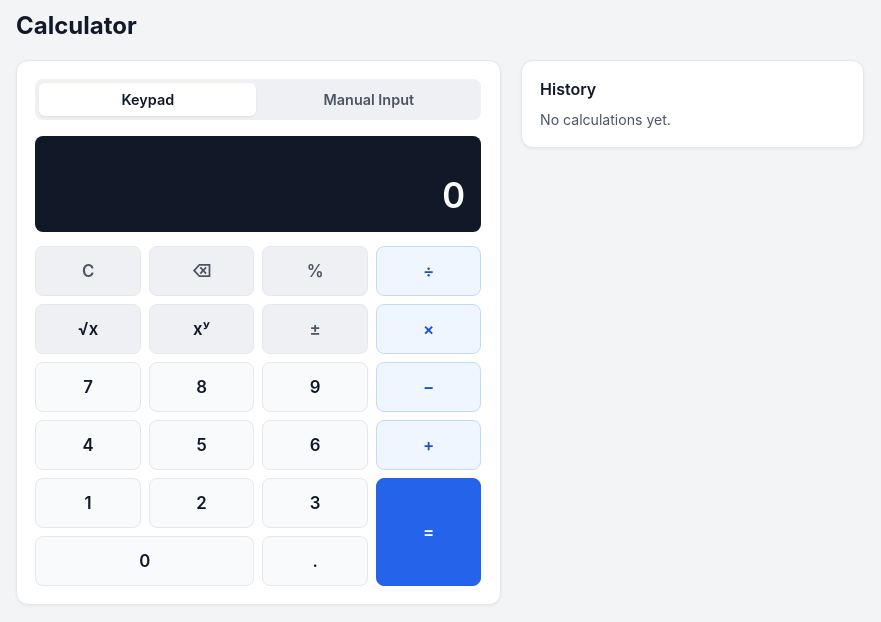
App › supports keyboard shortcuts, backspace, sign toggle, and operator chaining
Later steps or results of the test are not shown.
Type keys "12.59"
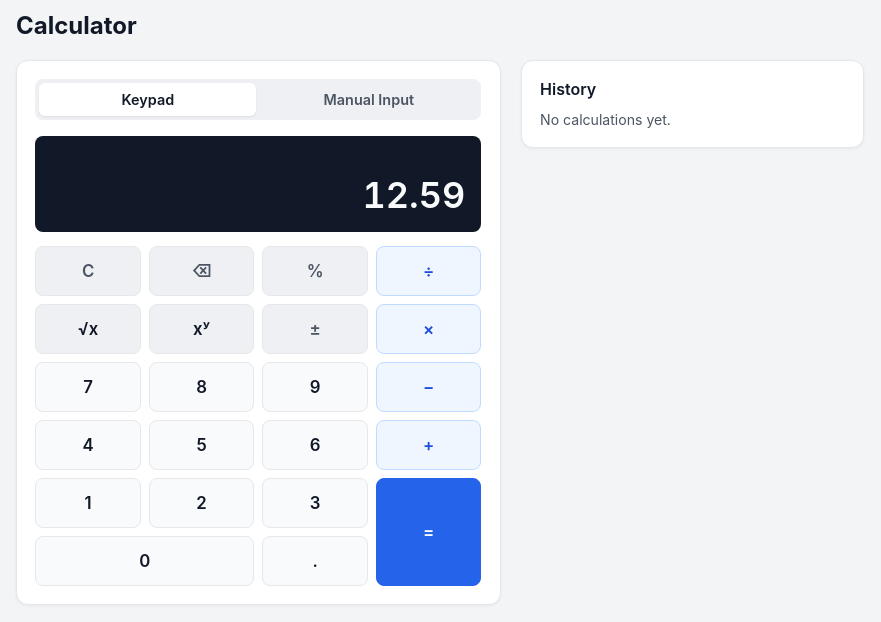
Press Backspace
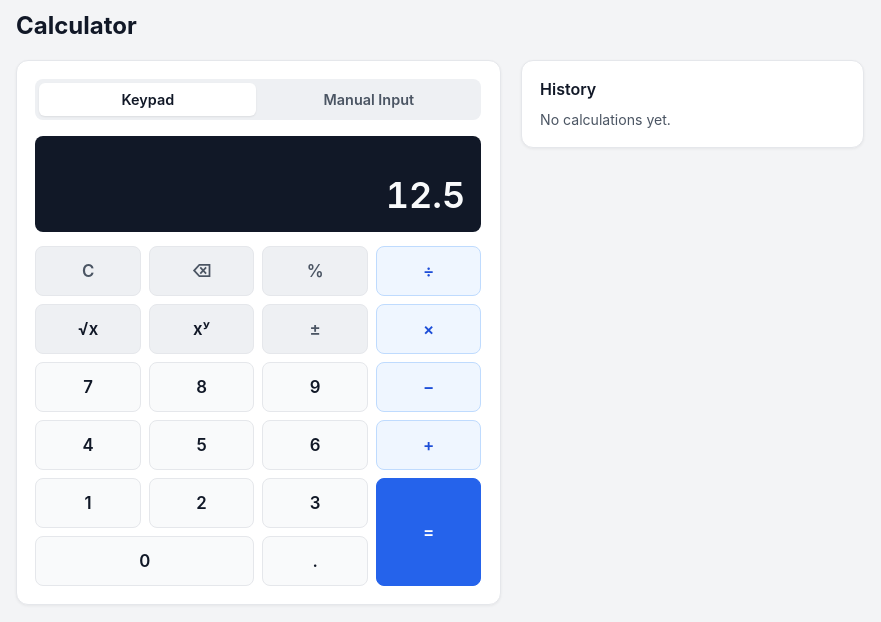
Click the button named "Toggle sign".
click(315, 329)  # box x1=262 y1=304 x2=368 y2=354
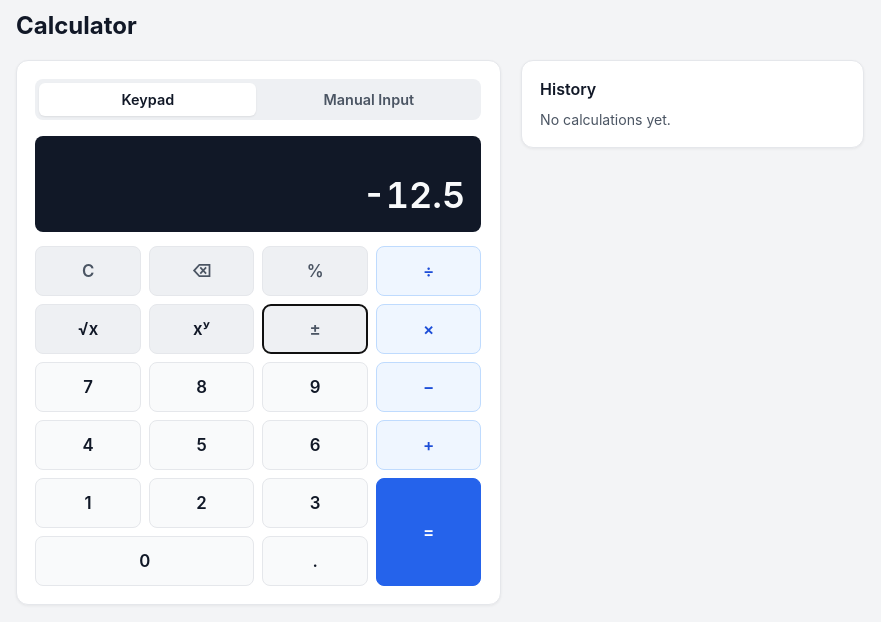
Check: the text with test id "calculator-display" reads "-12.5", box x1=362 y1=173 x2=465 y2=217
Type keys "+2.5*"
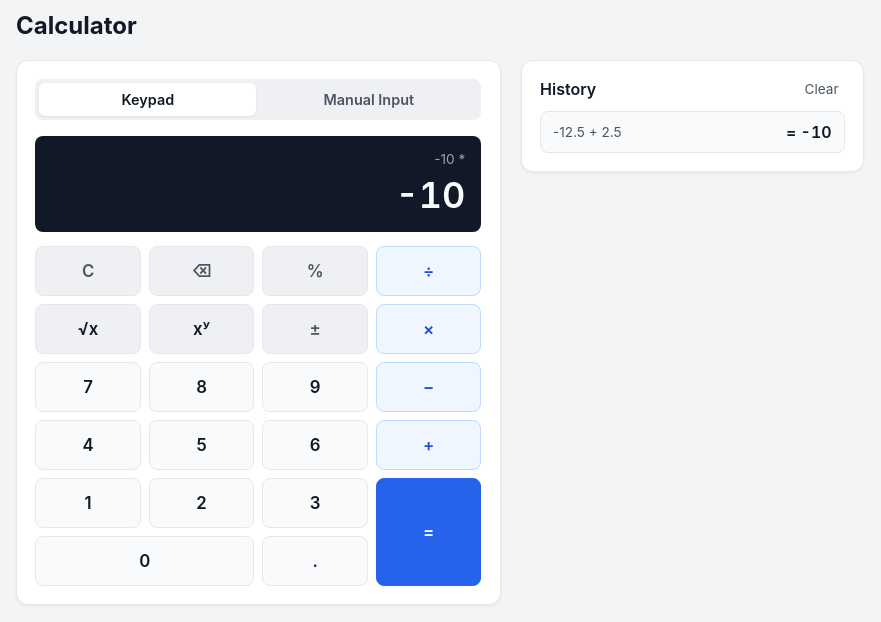
Check: the text with test id "calculator-display" reads "-10", box x1=395 y1=173 x2=465 y2=217
Type keys "3{Enter}"
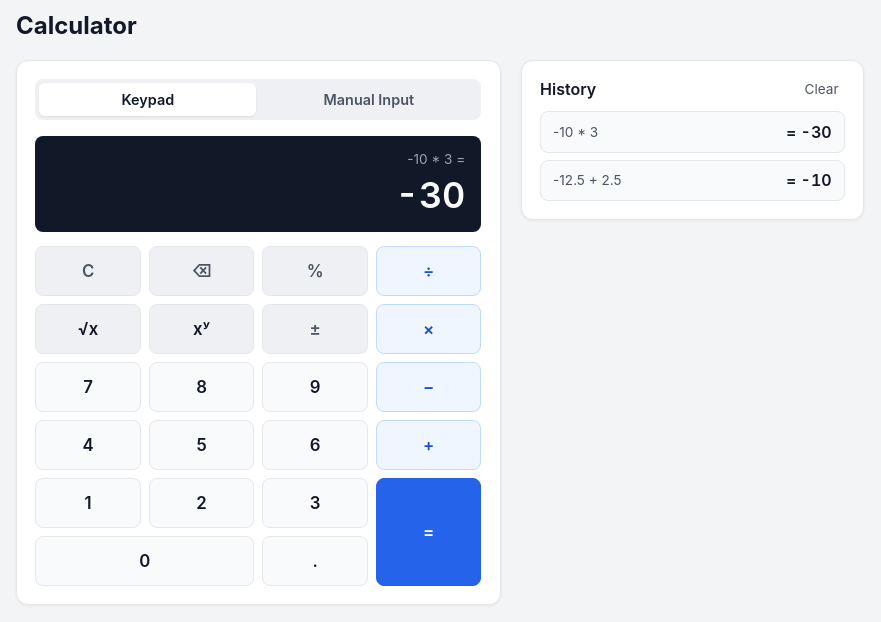
Check: the text with test id "calculator-display" reads "-30", box x1=395 y1=173 x2=465 y2=217
